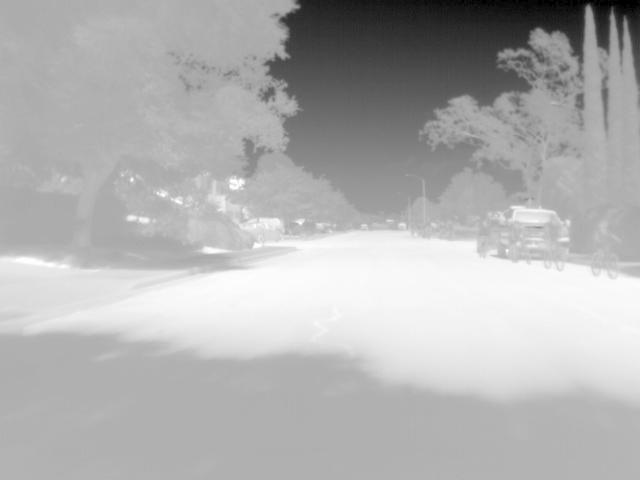car: (491, 205, 570, 260), (246, 218, 286, 234), (248, 226, 286, 242), (395, 220, 408, 232)
person: (591, 219, 619, 272), (544, 218, 567, 264), (505, 221, 531, 256), (476, 220, 492, 252)
